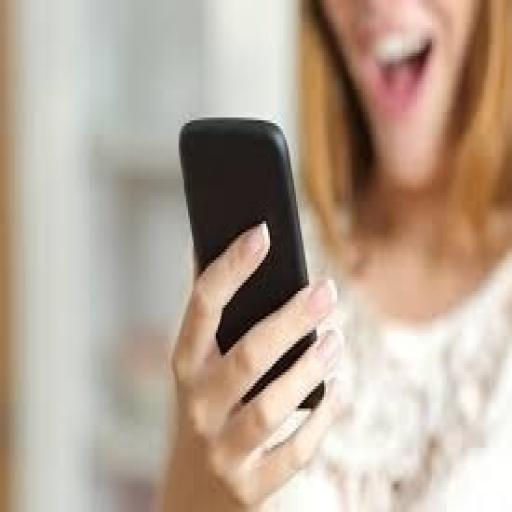texting: (155, 0, 510, 509)
